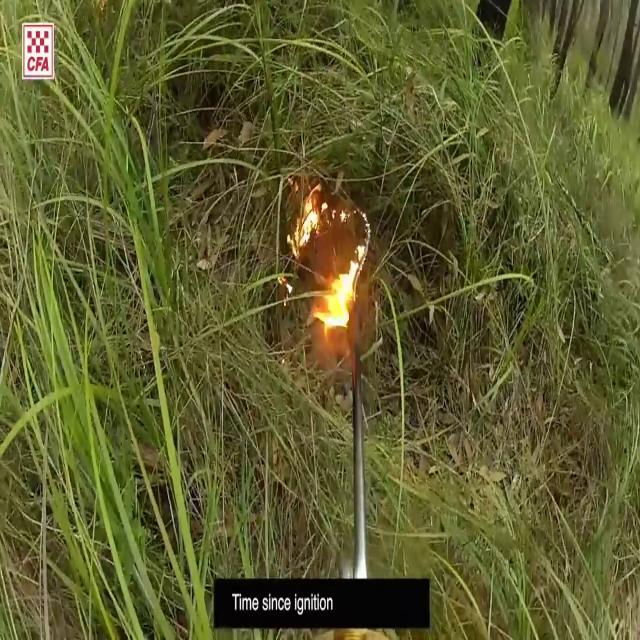Fire: (287, 178, 369, 332)
